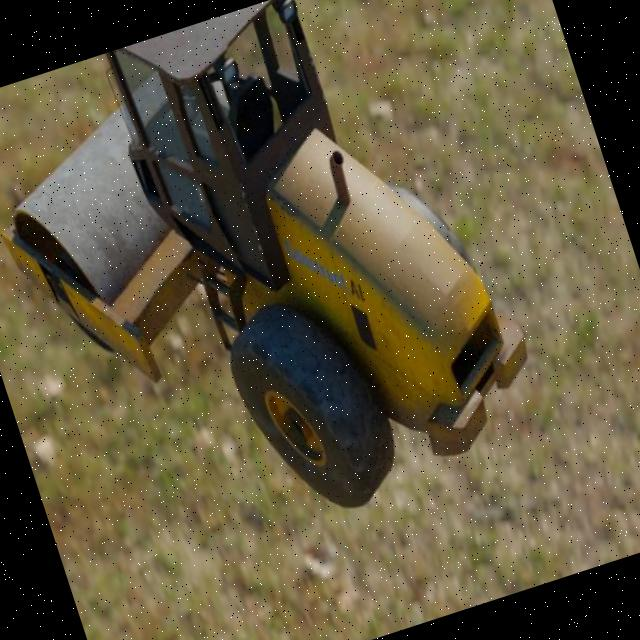Roller: (0, 0, 559, 587)
